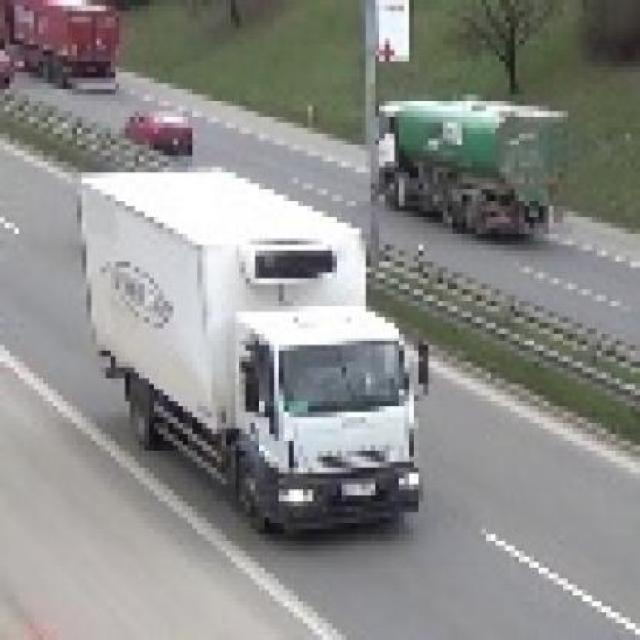truck: (83, 157, 434, 530), (376, 84, 579, 246)
